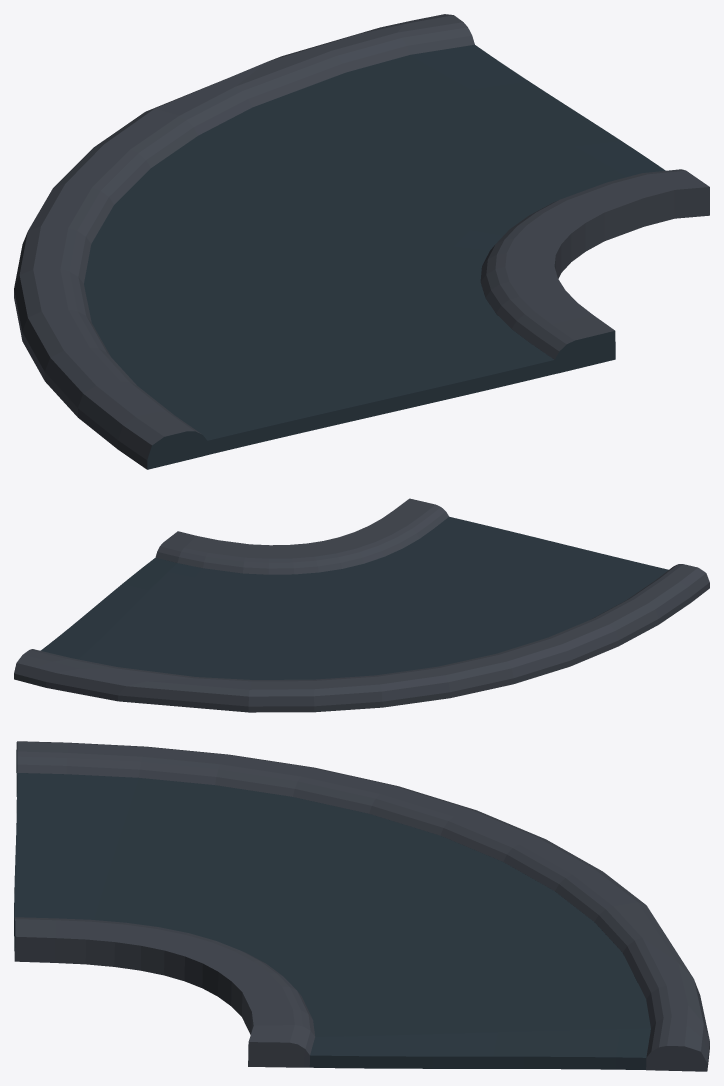
File: TurnLeft.fbx
3 renders of one model, top to bottom at view 1: azimuth 30°, elevation 25°; view 2: azimuth 150°, elevation 25°; view 3: azimuth 270°, elevation 25°, orthographic. The views are drawn at different scales.
Visible parts, largest first — view 1: TurnLeft; view 2: TurnLeft; view 3: TurnLeft.
Part boxes in pixels (x1,y1,x2,y2): TurnLeft: (14, 14, 709, 469); TurnLeft: (14, 498, 709, 712); TurnLeft: (14, 741, 709, 1071).
Size of the model in its own units: 307 by 20.84 by 303.
